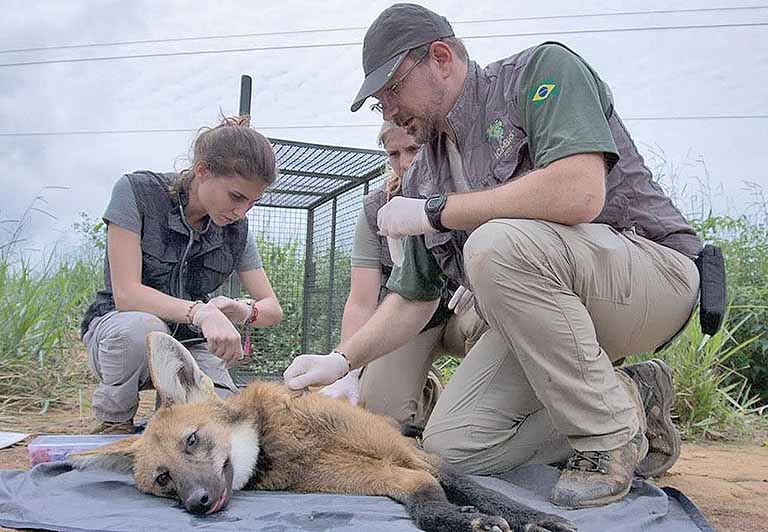LoboGuara: (91, 334, 533, 532)
